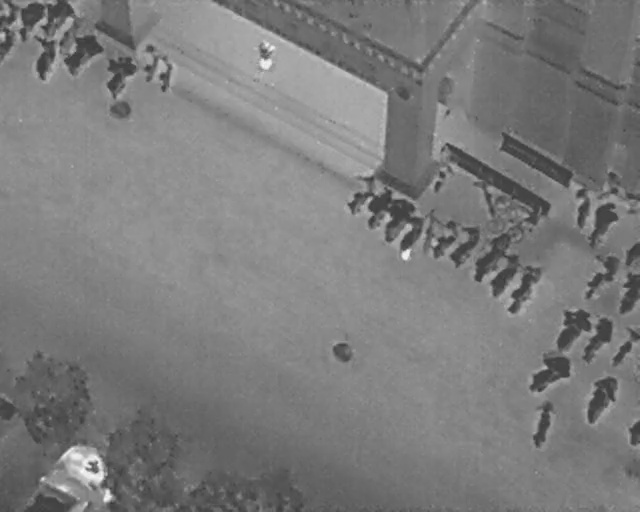Bicycle: (516, 341, 582, 405), (570, 242, 628, 308), (572, 366, 629, 432), (51, 23, 110, 85), (465, 223, 520, 288), (545, 297, 600, 359), (498, 258, 552, 321), (90, 46, 143, 105), (479, 244, 530, 304), (573, 312, 622, 371), (579, 194, 626, 254), (335, 164, 385, 218), (440, 217, 488, 273), (357, 180, 403, 234), (373, 192, 419, 246), (492, 185, 545, 229), (388, 208, 429, 264), (424, 214, 467, 265), (23, 31, 62, 84), (482, 209, 529, 248), (527, 395, 559, 451), (412, 206, 443, 258), (567, 182, 596, 231), (610, 324, 639, 372), (42, 0, 77, 34), (18, 0, 47, 41), (138, 41, 163, 84), (618, 269, 639, 318), (154, 52, 175, 94), (0, 28, 14, 63), (0, 0, 18, 27), (625, 416, 639, 449)
Car: (22, 441, 116, 511)
Person: (254, 38, 277, 73)
